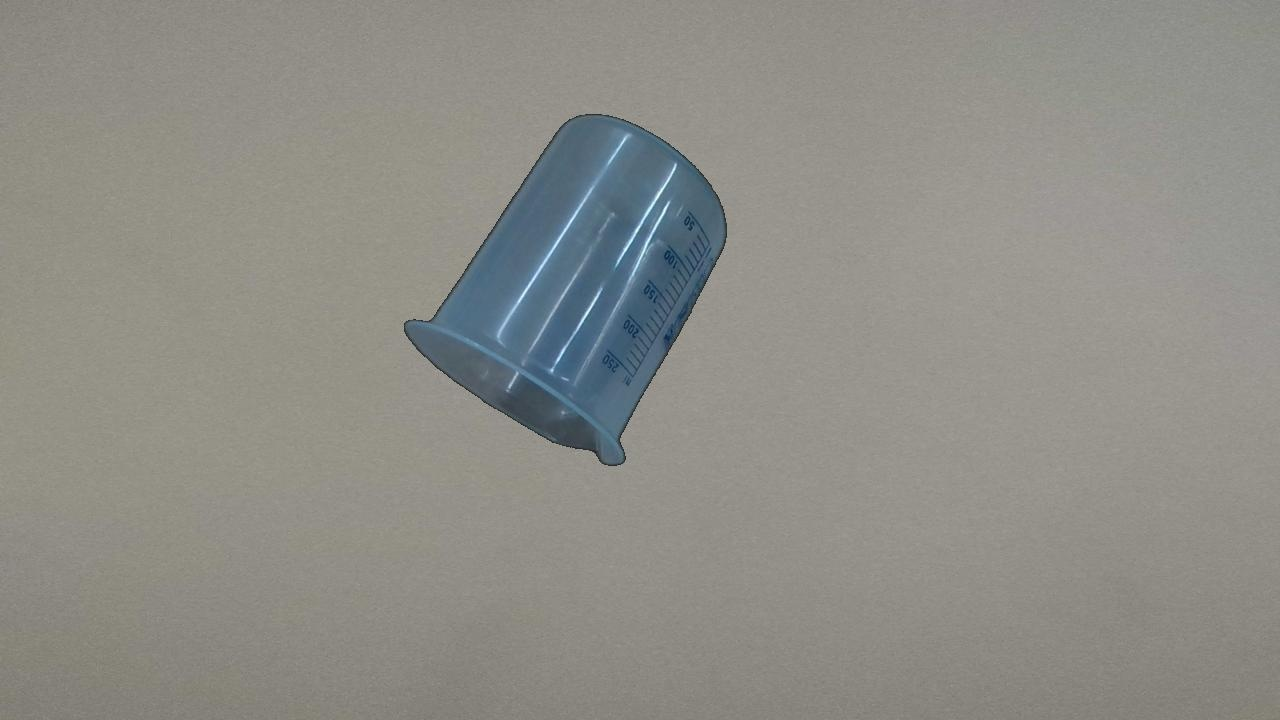becker: (400, 110, 728, 469)
